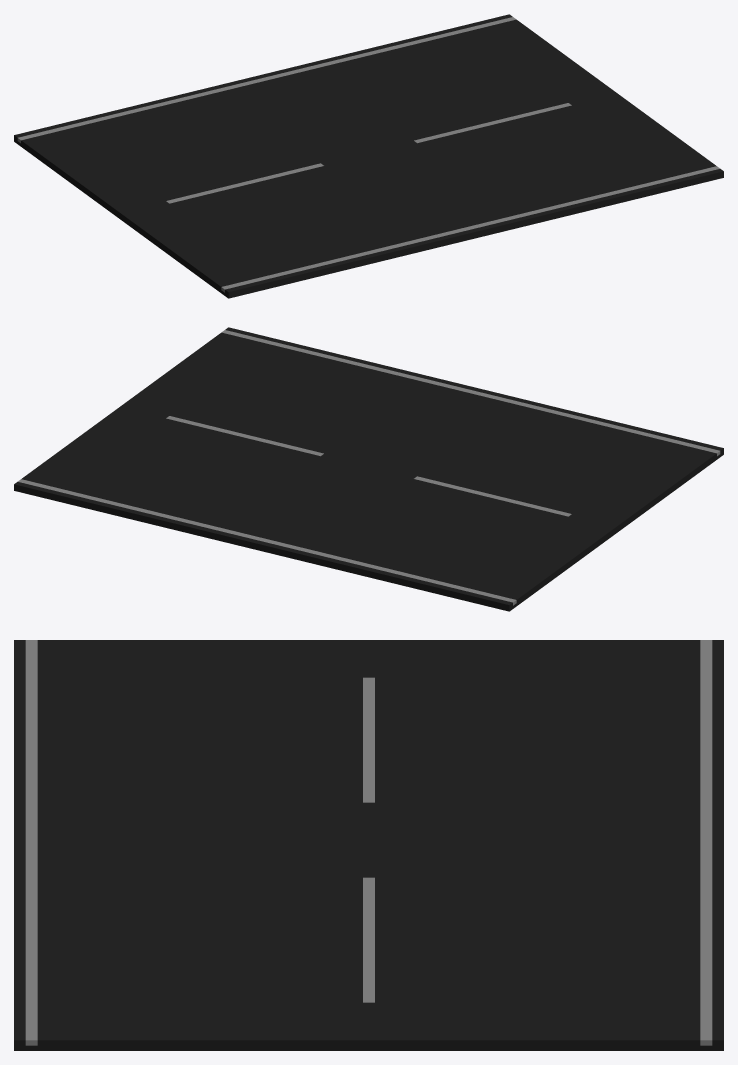
Rendered from 4LaneRoad0.obj.
3 views of the same model, one above another, from view 1: azimuth 30°, elevation 25°; view 2: azimuth 150°, elevation 25°; view 3: azimuth 270°, elevation 25° (orthographic). The views are drawn at different scales.
Bounding box in the file's own units: 16 × 0.2 × 12.
1 material, 1 textured.
